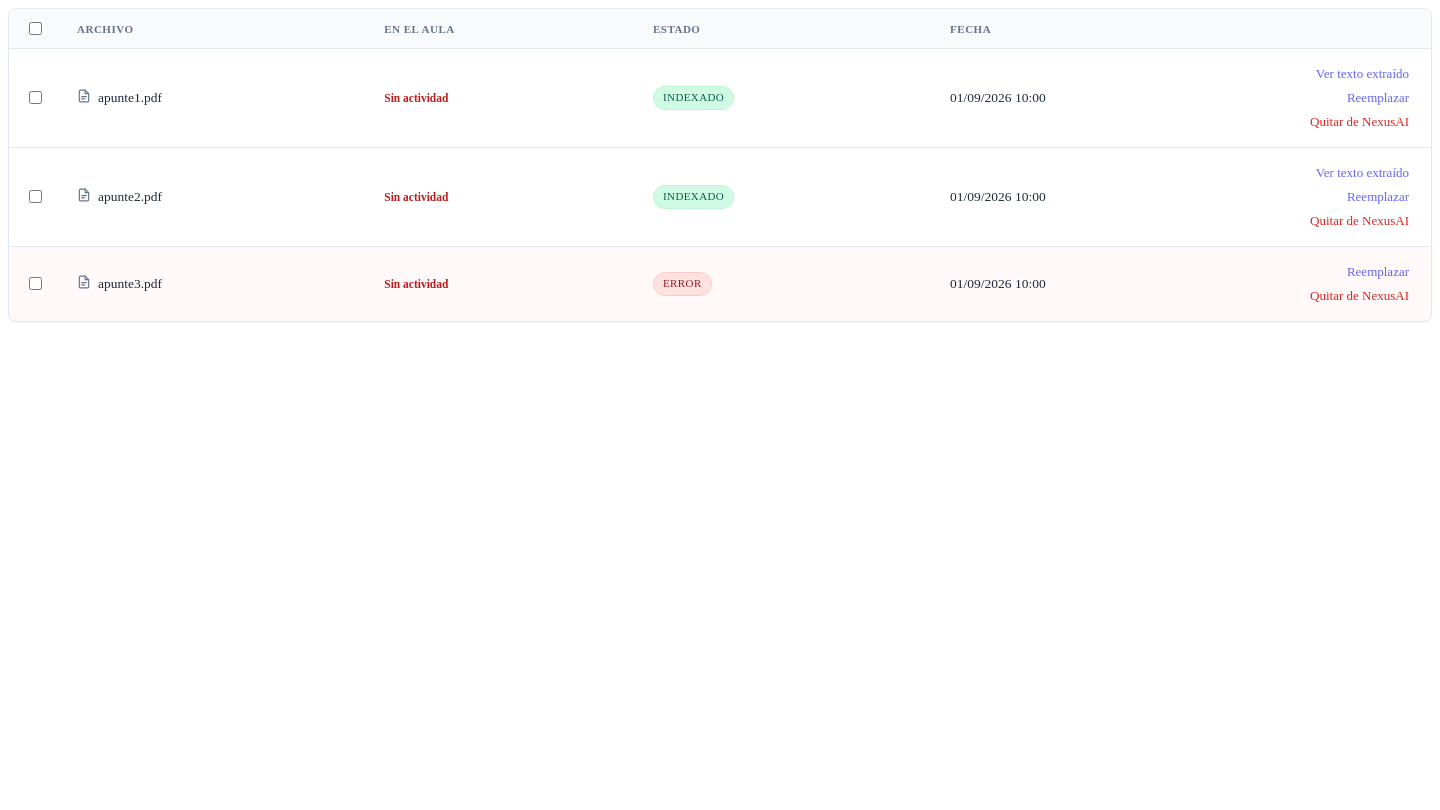
DocumentsTable — eliminar en lote › keeps a failed item in the table while the rest still get deleted
Click the checkbox named "Seleccionar todos los documentos": (36, 28) [29,22,42,35]
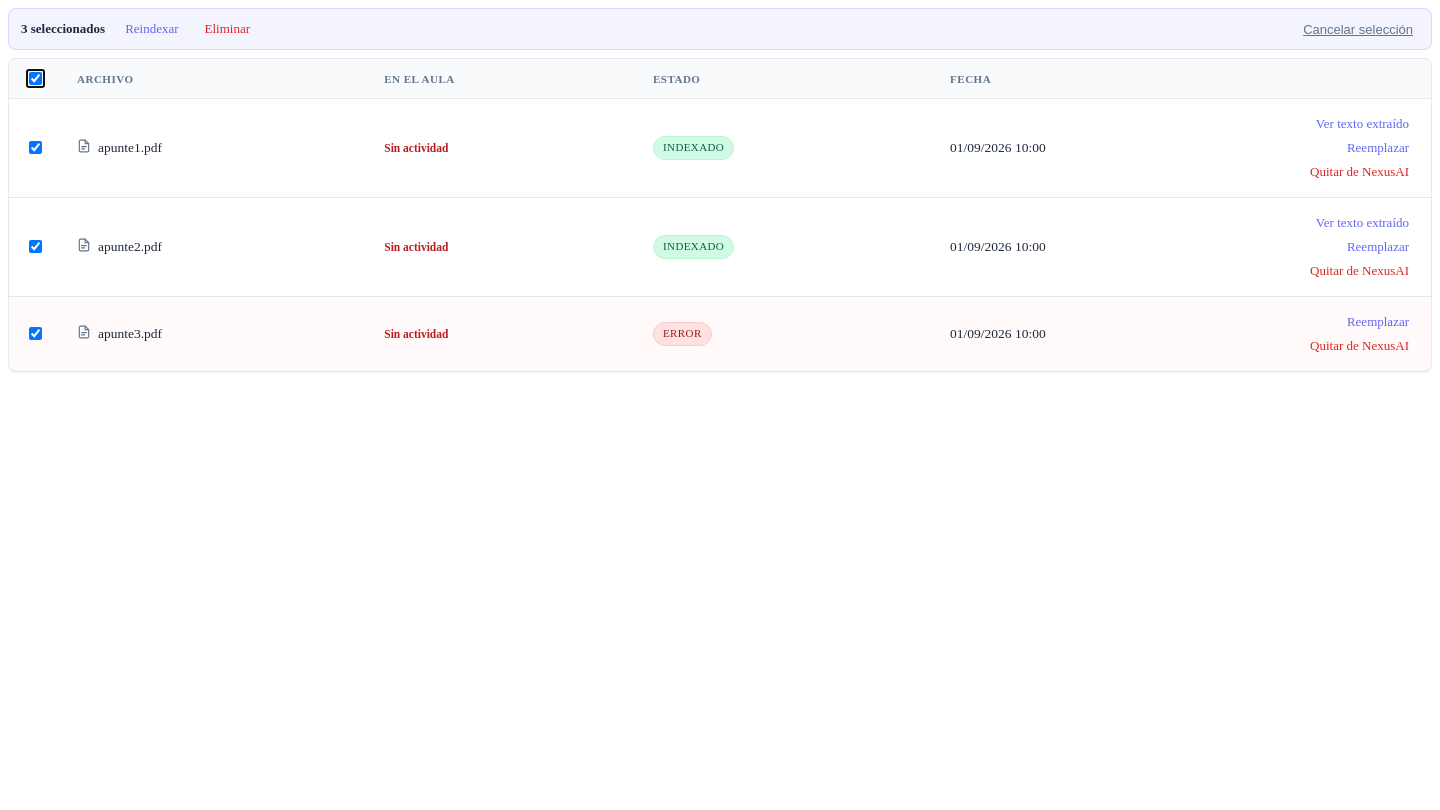
Click the button "Eliminar": (227, 29) [199,17,256,41]
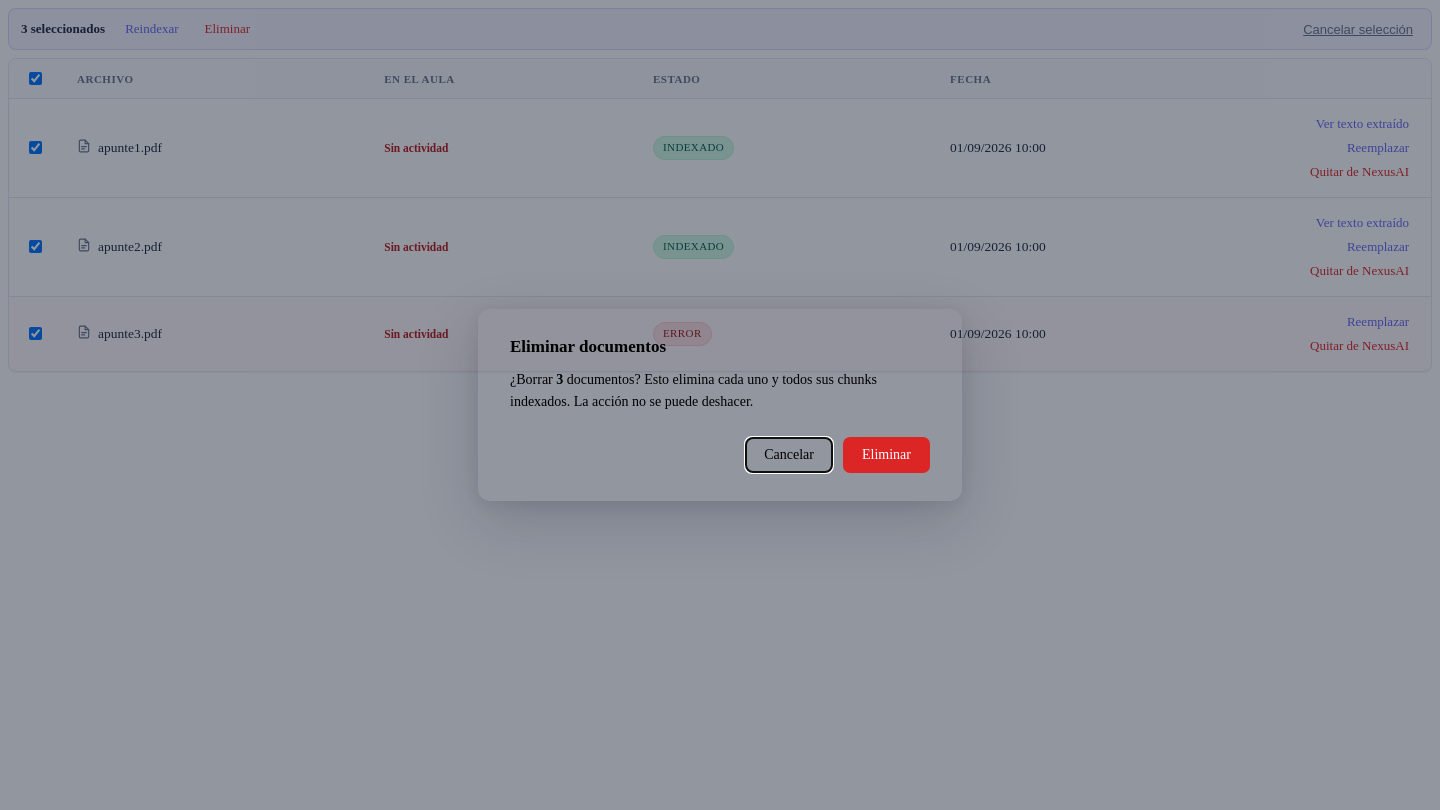
Click the button "Eliminar": (886, 455) [843,437,930,473]
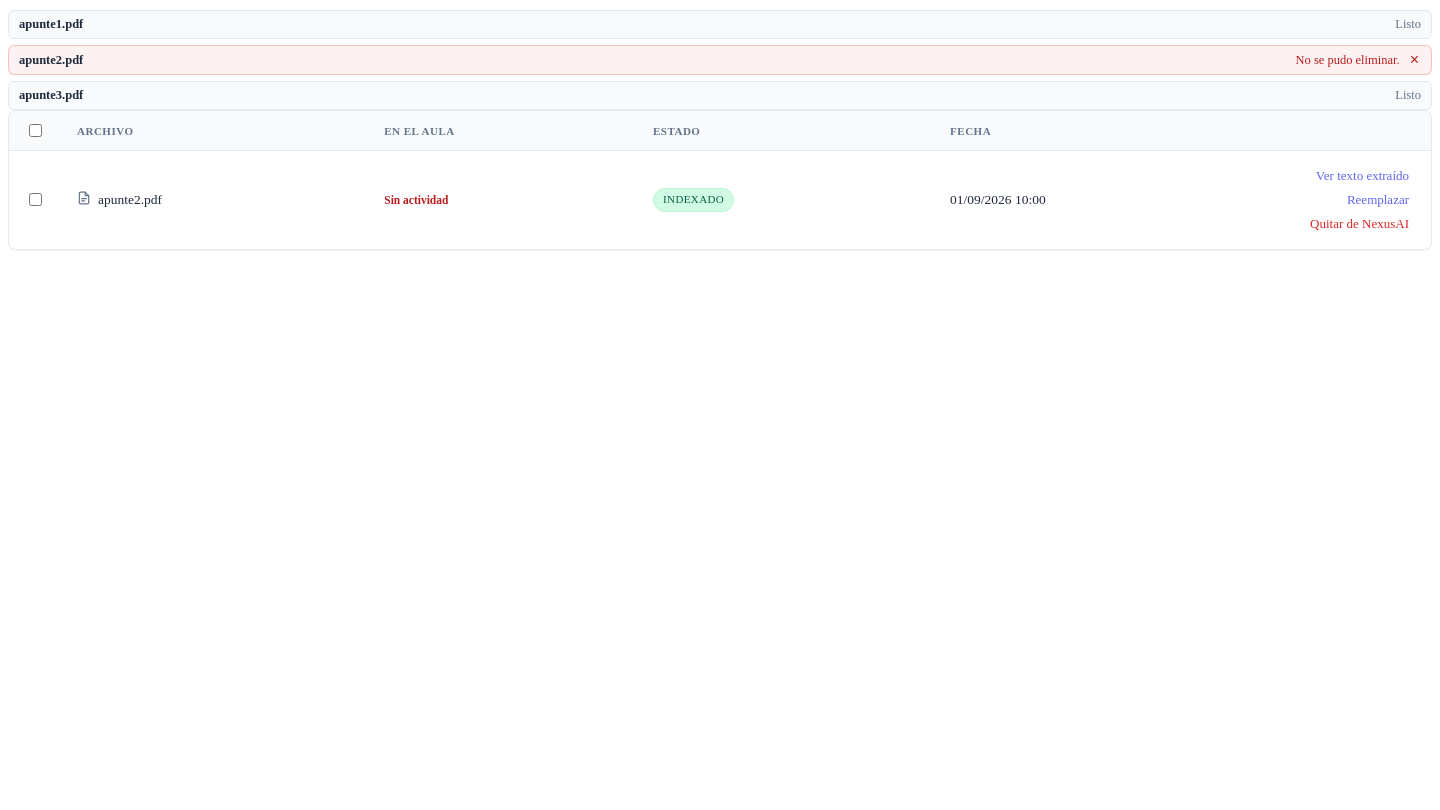
Expected: the checkbox named "Seleccionar apunte2.pdf" is shown, [29,193,42,206]
Expected: the text "No se pudo eliminar." is shown, [1296,52,1400,68]
